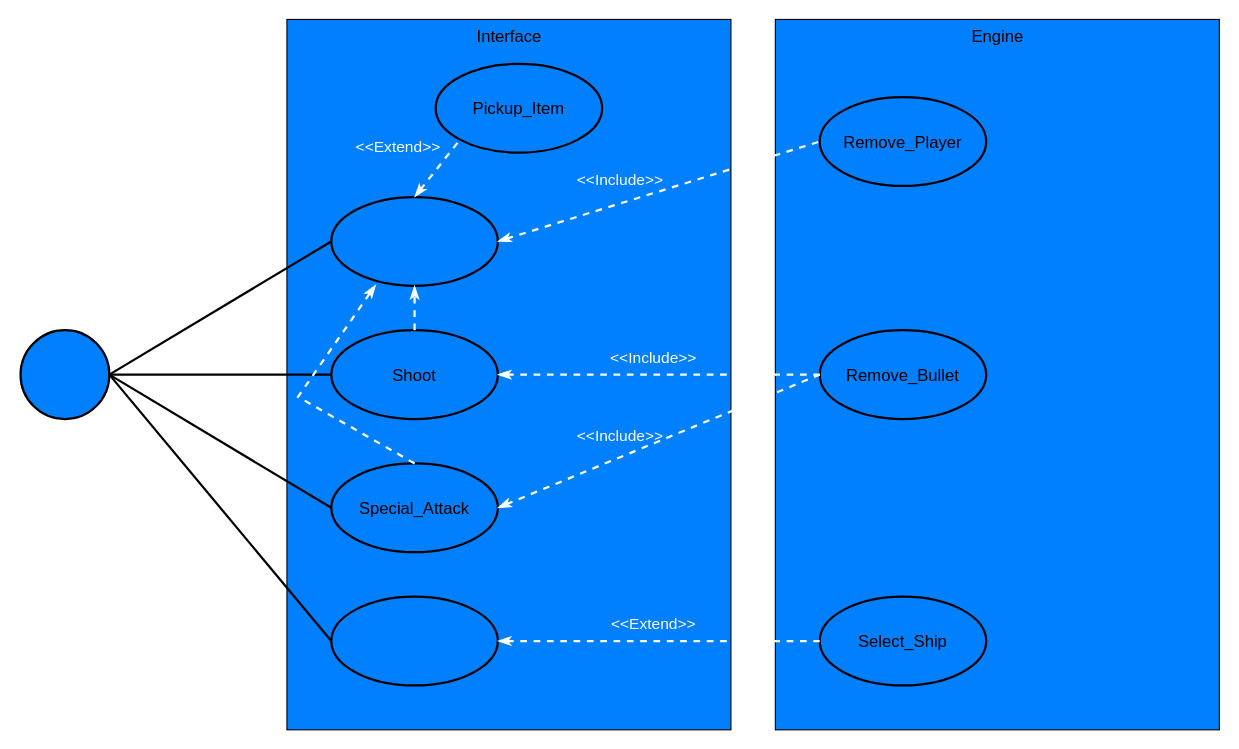
This 1239x749 diagram has some shape labels left out. Here are the shapes that lost their labels. From the top down, the box of each, then its label:
(330, 195, 498, 286): Player_Movement
(19, 329, 110, 420): Human
(330, 595, 498, 686): Choose_Equipment
